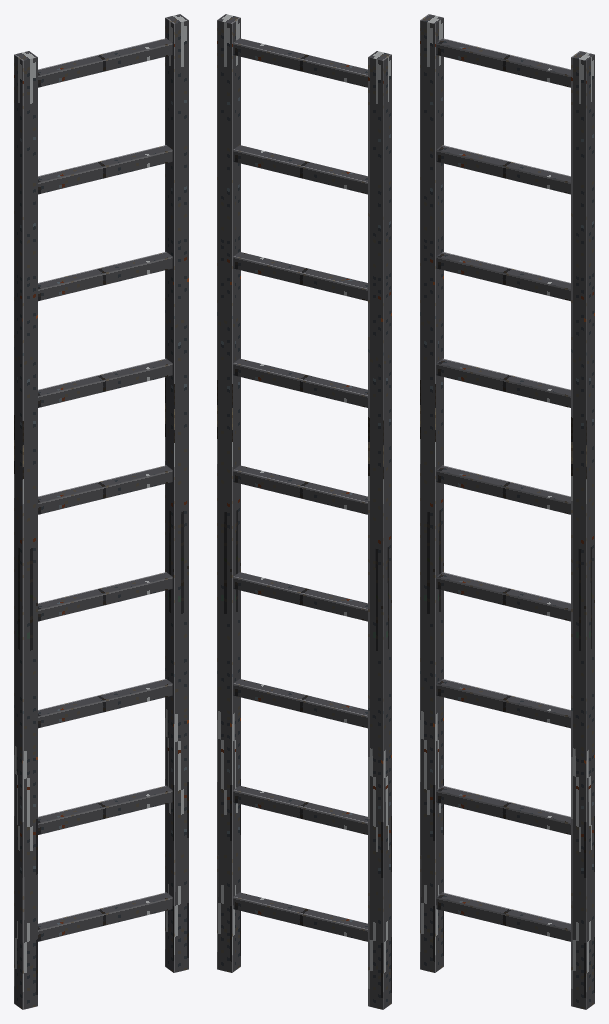
The model's file is SM_Env_LadderMetal_01.glb.
3 renders of one model, left to right at view 1: azimuth 30°, elevation 25°; view 2: azimuth 150°, elevation 25°; view 3: azimuth 330°, elevation 25°, orthographic.
Visible parts, largest first — view 1: SM_Env_LadderMetal_01; view 2: SM_Env_LadderMetal_01; view 3: SM_Env_LadderMetal_01.
Boxes of the visible parts, left/top/right/bottom form: SM_Env_LadderMetal_01: left=14, top=14, right=188, bottom=1009; SM_Env_LadderMetal_01: left=217, top=14, right=391, bottom=1009; SM_Env_LadderMetal_01: left=420, top=14, right=594, bottom=1009.
Bounding box in the file's own units: 0.44 × 2.4 × 0.04.
1 material, 1 textured.
